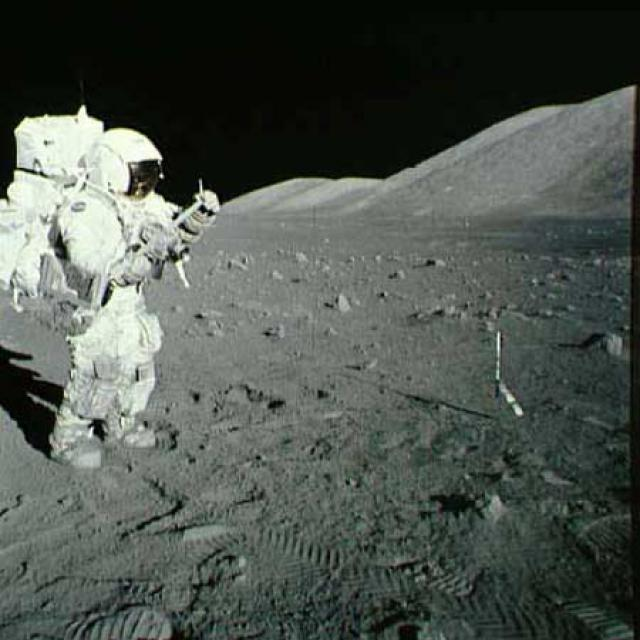artifact: (465, 322, 532, 415)
rock: (581, 325, 630, 361), (317, 285, 358, 319)
